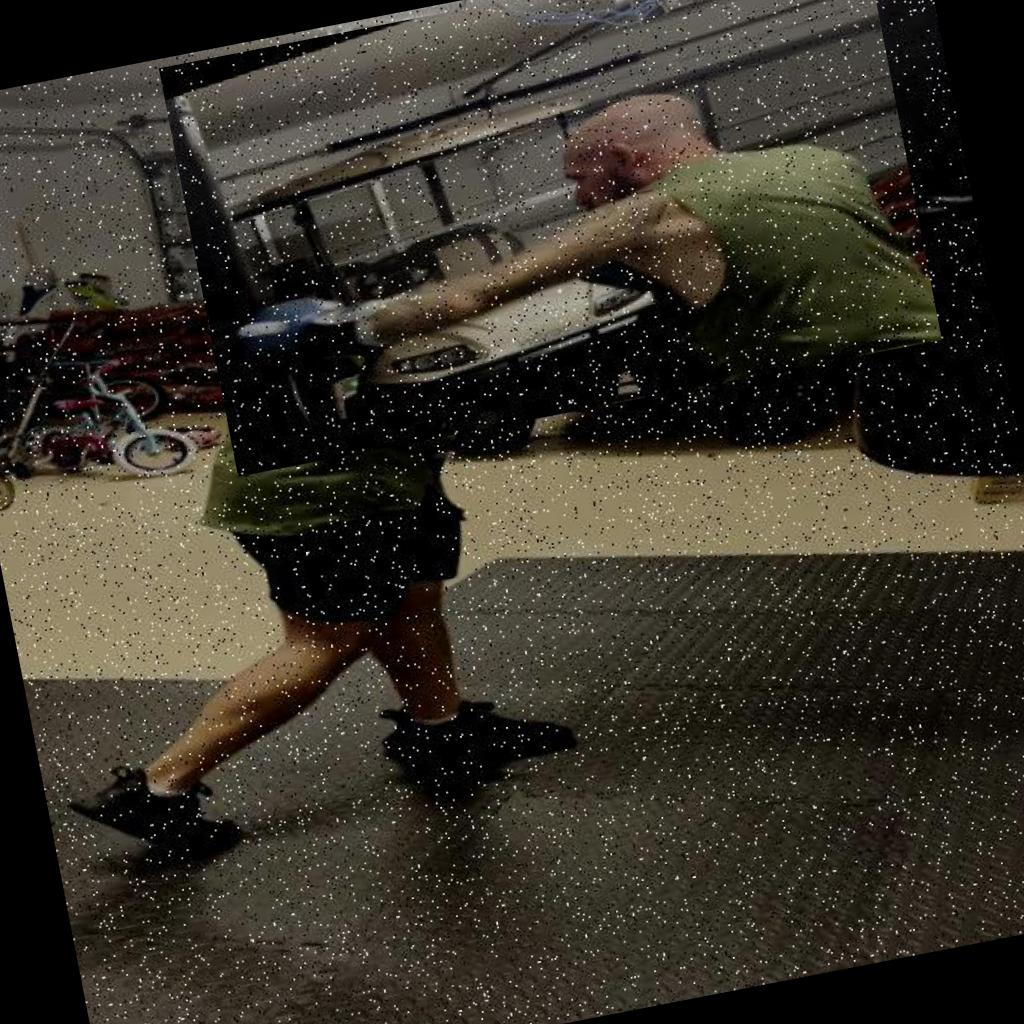bag: (775, 0, 1024, 525)
cross: (159, 0, 942, 476)
